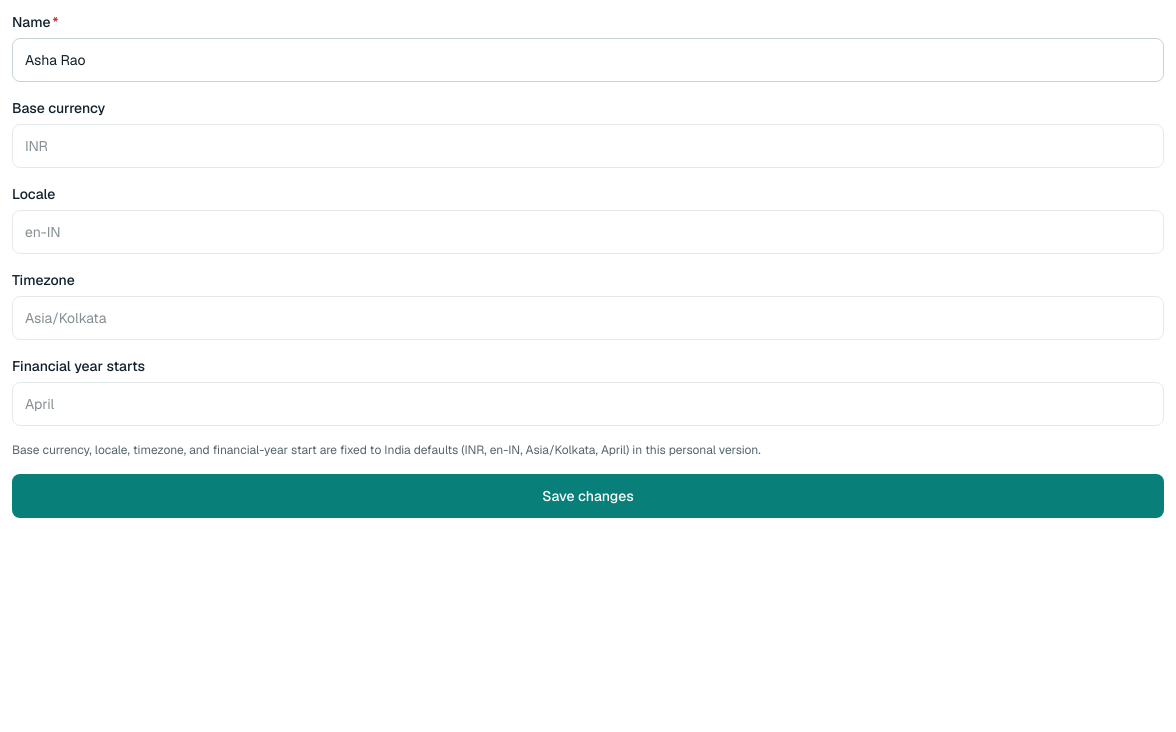
Scenario: ProfileForm › shows an accessible pending state while saving
The width and height of the screenshot is (1176, 732).
Click the button "Save changes" at (588, 496), box [12,474,1164,518]
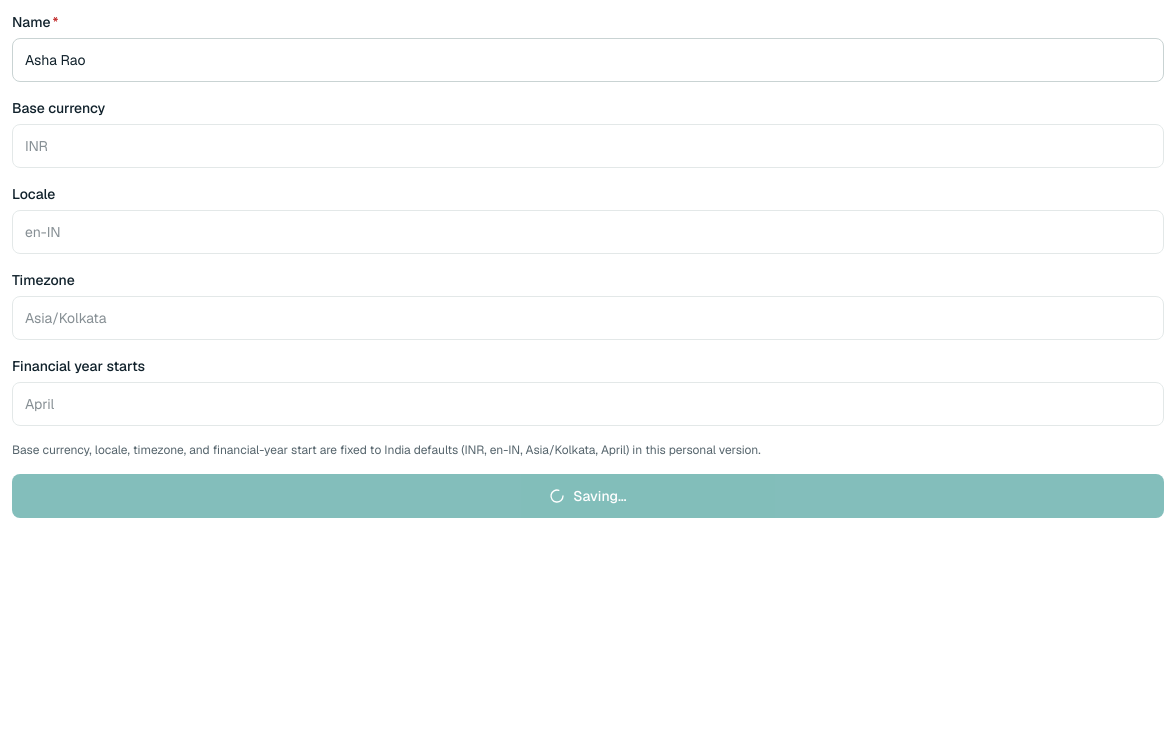
Result: the button "Saving…" is disabled at [12,474,1164,518]
